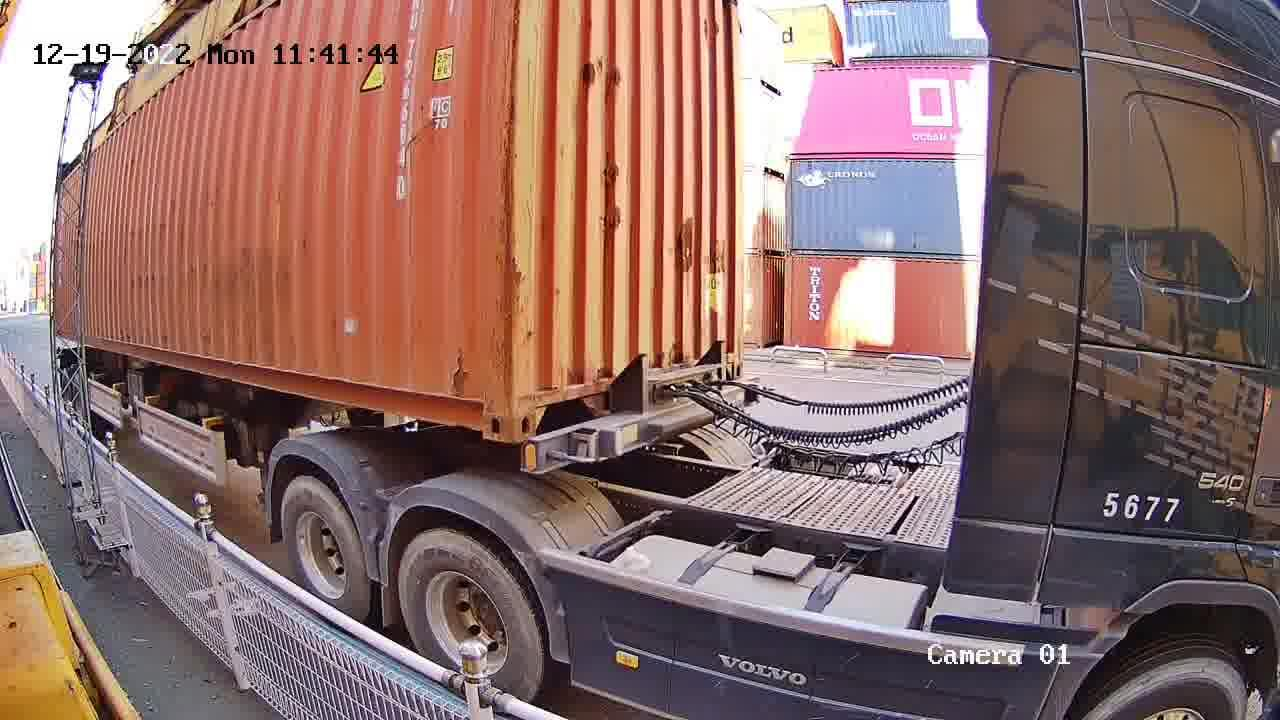Chassis: (520, 374, 760, 474)
Hole_L: (512, 377, 566, 443)
Hole_R: (449, 371, 512, 441), (727, 340, 744, 380)
Tire: (399, 530, 541, 697), (282, 477, 364, 613)
